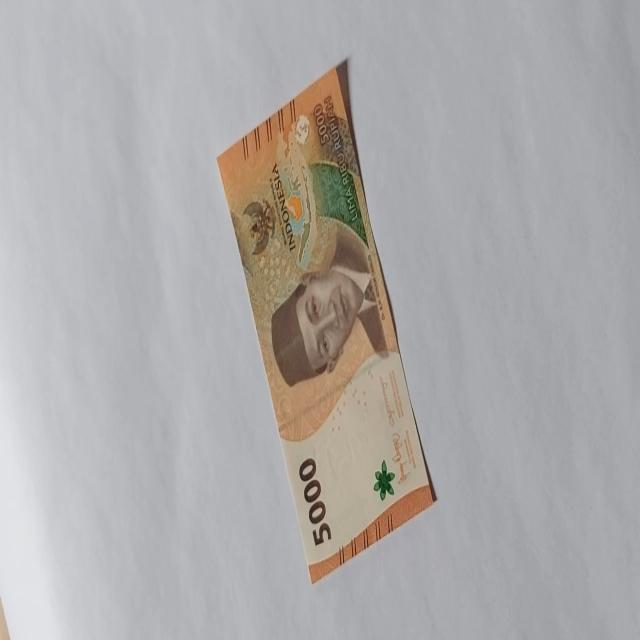lima ribu rupiah: (216, 59, 436, 584), (269, 223, 377, 390)
